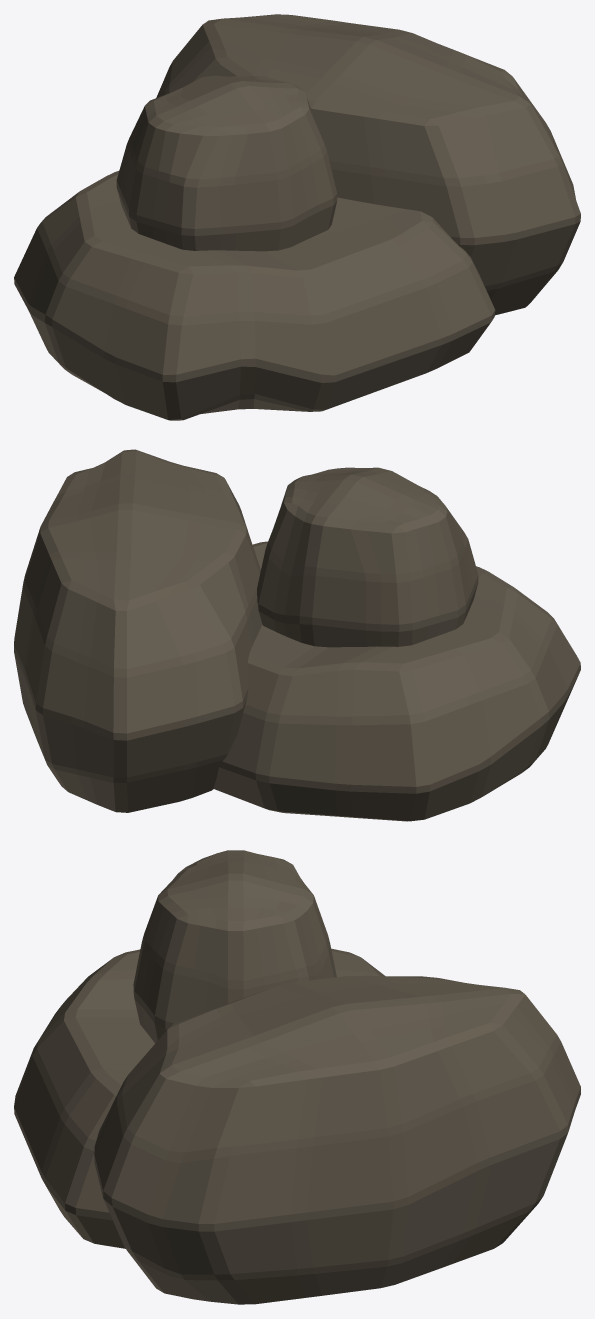
The model's file is rock_5_garden.fbx.
The picture shows the model from 3 angles, top to bottom: view 1: azimuth 30°, elevation 25°; view 2: azimuth 150°, elevation 25°; view 3: azimuth 270°, elevation 25°; orthographic projection. The views are drawn at different scales.
Parts seen in each view (by area): view 1: rock_5_garden; view 2: rock_5_garden; view 3: rock_5_garden.
Boxes of the visible parts, <box> form: rock_5_garden: <box>14,14,580,420</box>; rock_5_garden: <box>14,449,580,821</box>; rock_5_garden: <box>14,850,580,1304</box>.
Bounding box in the file's own units: 82.53 × 41.5 × 73.47.
